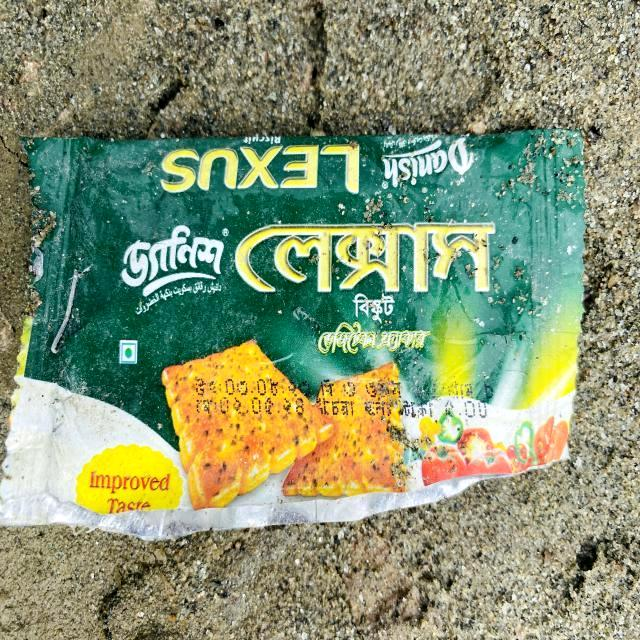packet: (1, 131, 592, 525)
